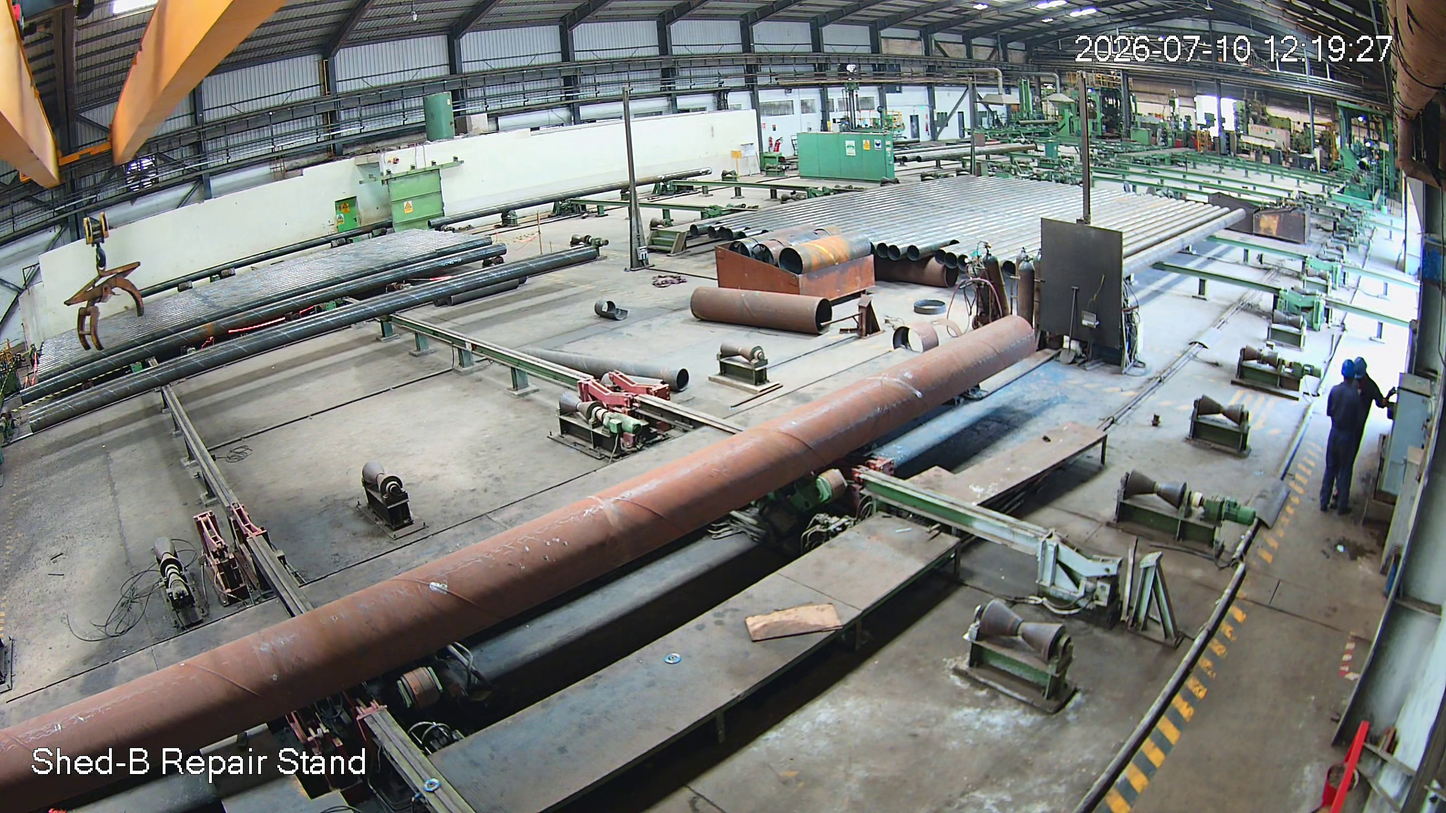Helmet: (1337, 356, 1362, 391)
Person: (1326, 358, 1370, 506)
